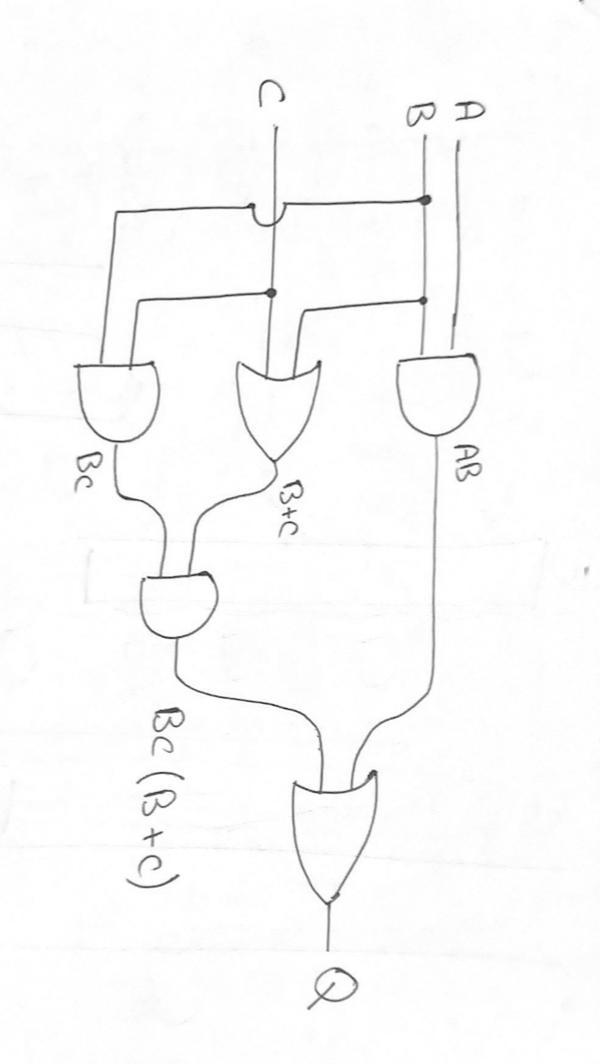AND: (62, 342, 178, 457), (382, 338, 496, 444), (116, 558, 235, 655)
OR: (272, 760, 407, 932), (214, 348, 344, 477)
